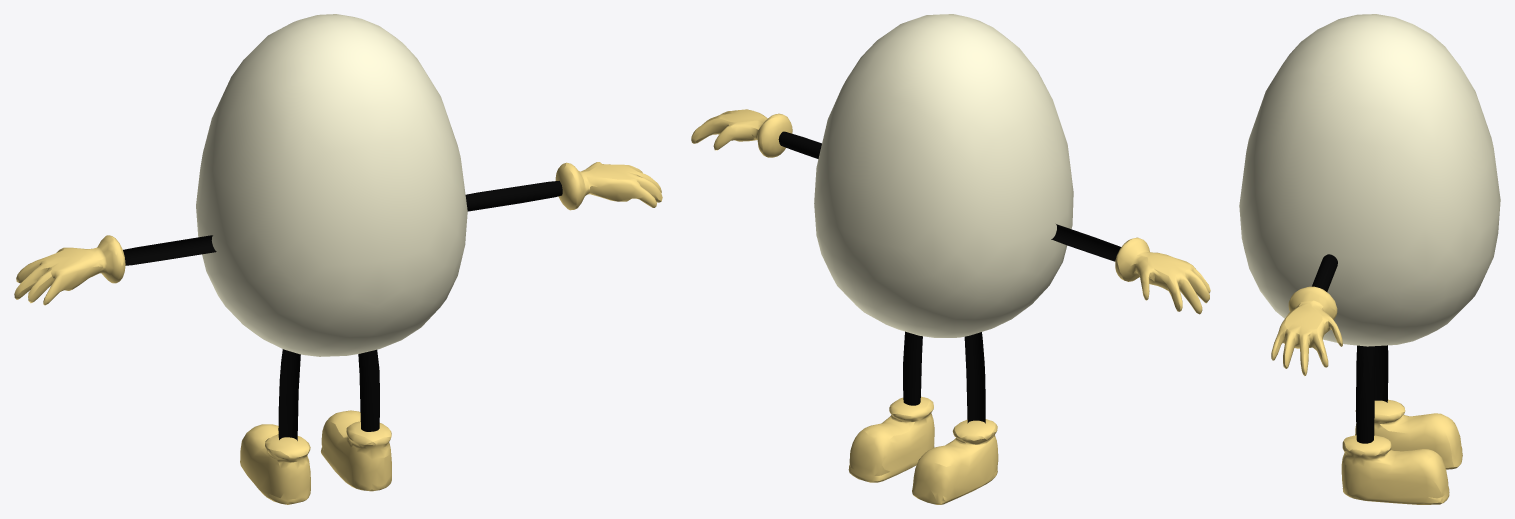
Rendered from huevoModelIdle.fbx.
3 views of the same model, side by side, from view 1: azimuth 30°, elevation 25°; view 2: azimuth 150°, elevation 25°; view 3: azimuth 270°, elevation 25° (orthographic). The views are drawn at different scales.
Parts seen in each view (by area): view 1: Cubo.001, Cubo.004; view 2: Cubo.001, Cubo.004; view 3: Cubo.001, Cubo.004.
Boxes of the visible parts, box(x1,y1,x2,y2) form: Cubo.001: box(196, 14, 467, 356); Cubo.004: box(14, 162, 662, 504); Cubo.001: box(814, 14, 1073, 337); Cubo.004: box(691, 109, 1210, 504); Cubo.001: box(1239, 14, 1500, 346); Cubo.004: box(1271, 254, 1462, 504).
Bounding box in the file's own units: 1176 × 893 × 464.
